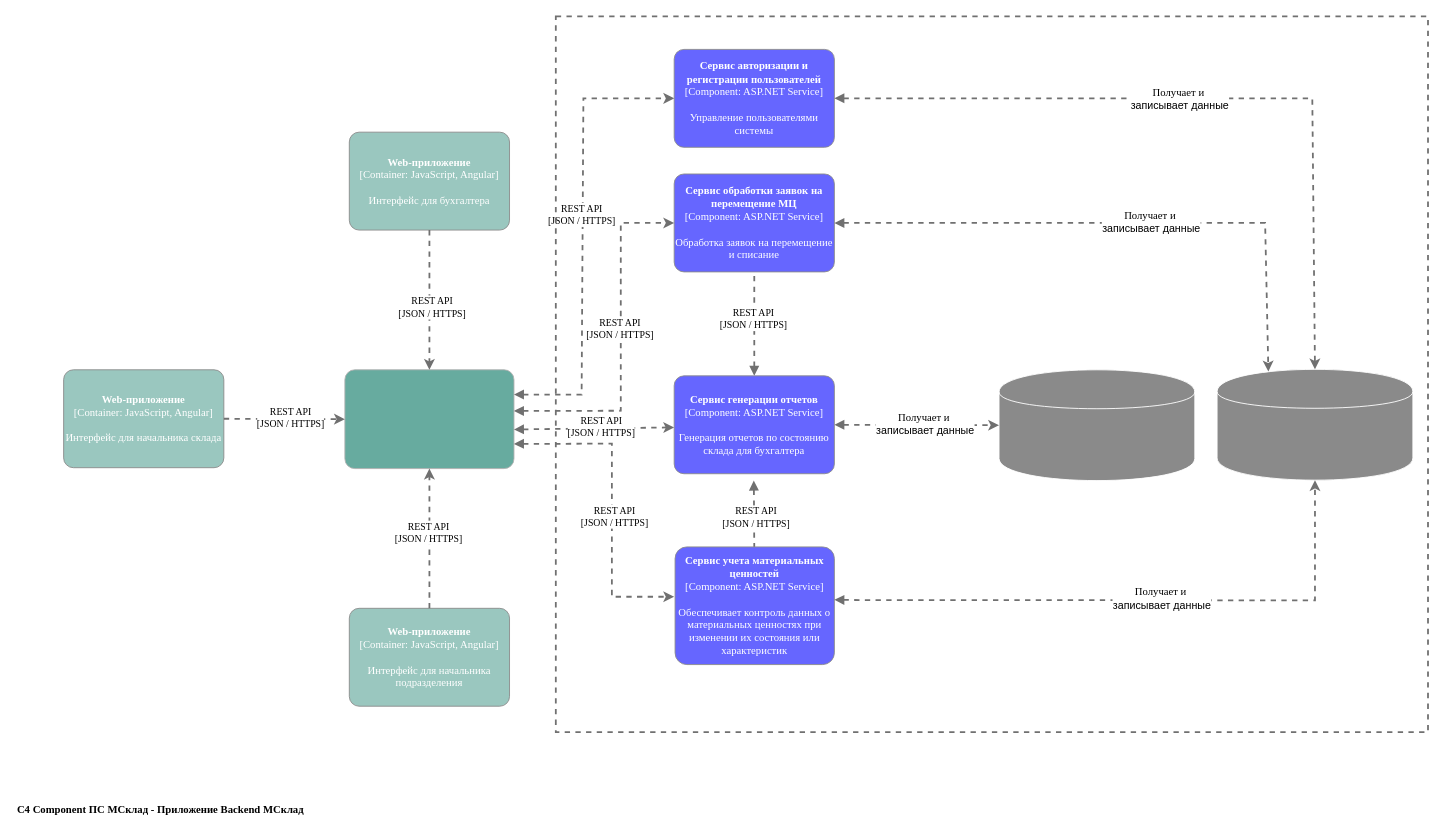
The diagram is 1444 pixels wide and 837 high, and some of its shapes have lost their labels. Each missing label, with the centre of its shape:
"Database [Container: PostgreSQL] Общие данные по системе" belongs at (1314,424).
"Балансировщик соединений [Component: Apache] Распределяет нагрузку на систему" belongs at (429,419).
"Файловое хранилище [Container: File System] Файловое хранилище для отчетов" belongs at (1096,425).
